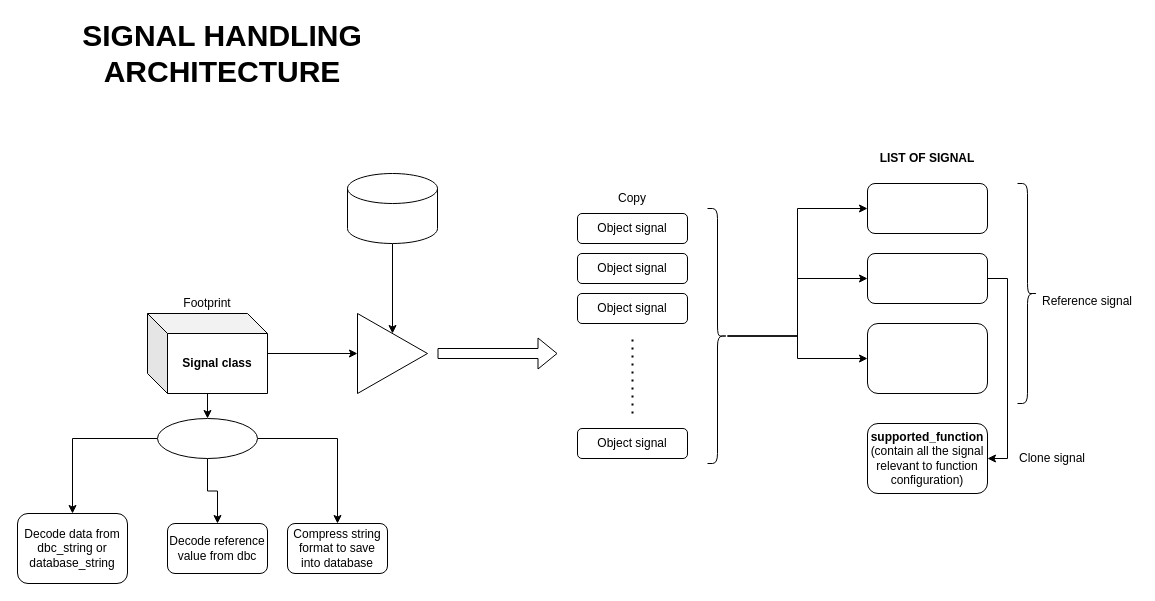
The diagram is 1155 pixels wide and 601 high, and some of its shapes have lost their labels. The centre of each missing label's shape, as x and y in pixels:
"DBC source" goes at (x=392, y=208).
"Mandatory (contain precondition and dtc_enable signal)" goes at (x=927, y=208).
"Method" goes at (x=207, y=438).
"necessary_sp (contain all the signal to enable different speed value)" goes at (x=927, y=358).
"Total_signal (contain all the signal from both dbc file)" goes at (x=927, y=278).
